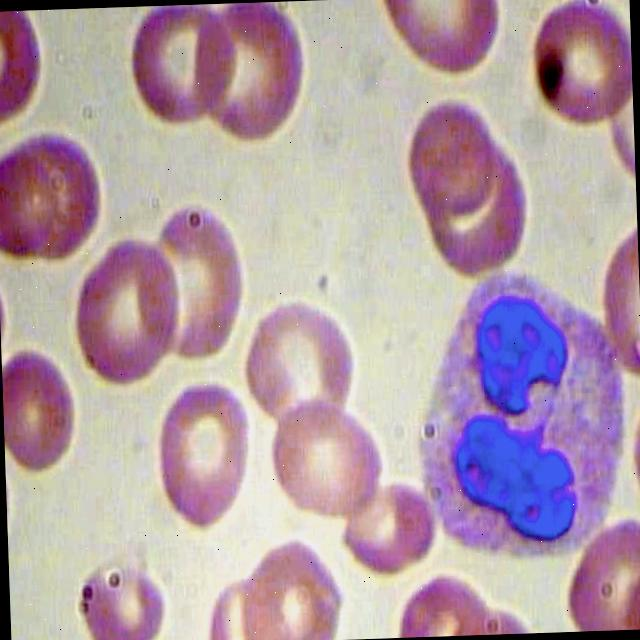RBC: (65, 234, 183, 396), (138, 200, 256, 362), (189, 1, 312, 148), (263, 385, 386, 528), (238, 291, 360, 434), (148, 376, 255, 532), (126, 2, 242, 140), (526, 0, 633, 132), (401, 92, 498, 216), (0, 334, 80, 482), (334, 477, 442, 579), (74, 539, 165, 640), (0, 143, 72, 268)
WBC: (378, 253, 640, 580)
